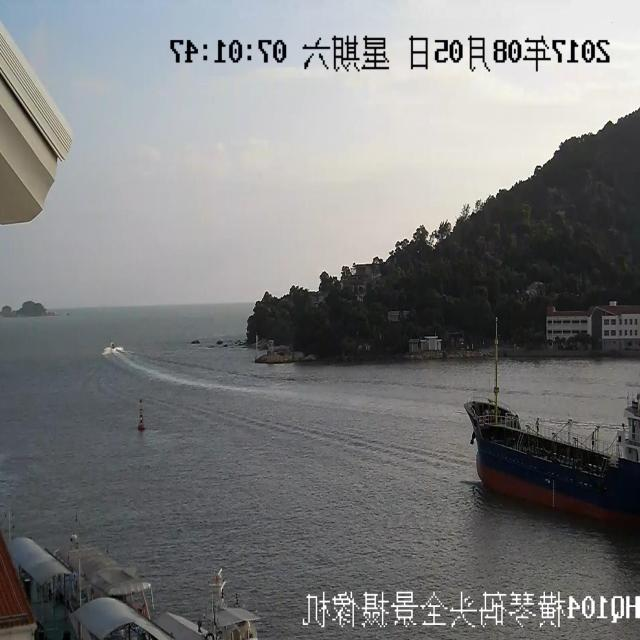fishing boat: (461, 363, 640, 498)
